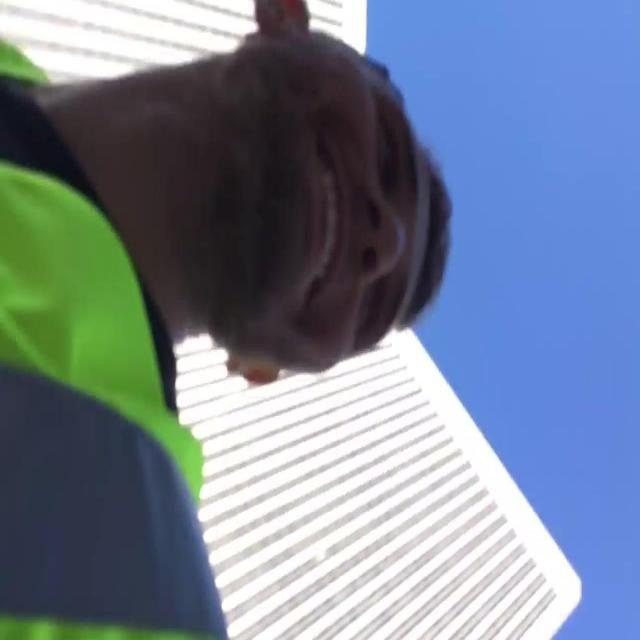Reflective-Jacket: (2, 142, 230, 640)
Safety-Helmet: (0, 121, 232, 638)
